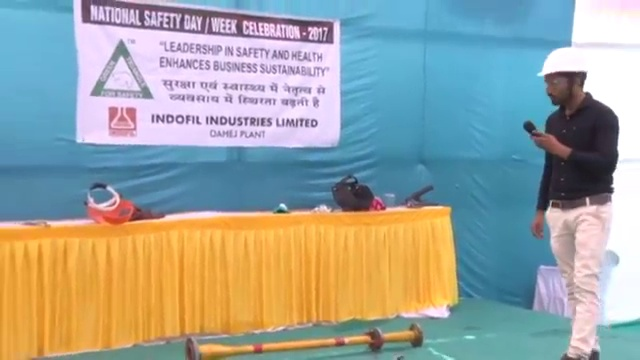helmet: (534, 46, 591, 77)
helmet_on: (532, 46, 594, 110)
person: (522, 46, 620, 360)
